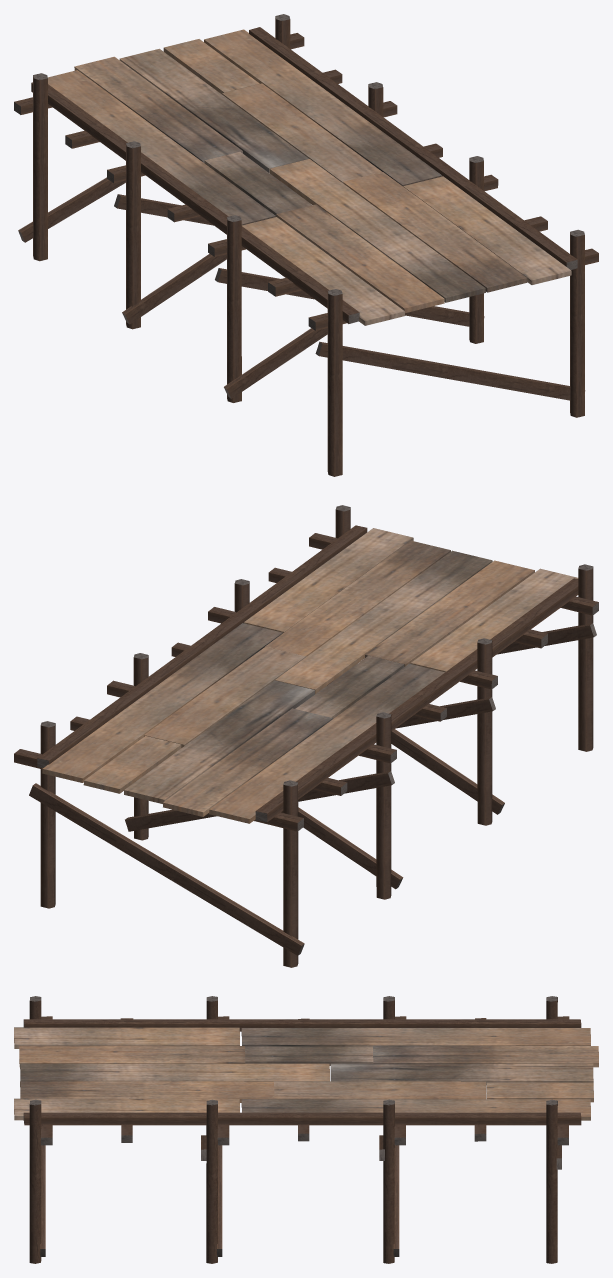
Rendered from jov_Pier1b.fbx.
3 renders of one model, top to bottom at view 1: azimuth 30°, elevation 25°; view 2: azimuth 150°, elevation 25°; view 3: azimuth 270°, elevation 25°, orthographic. The views are drawn at different scales.
Visible parts, largest first — view 1: jov_Pier1b; view 2: jov_Pier1b; view 3: jov_Pier1b.
Boxes of the visible parts, x1,y1,x2,y2 form: jov_Pier1b: [14, 14, 598, 476]; jov_Pier1b: [14, 505, 598, 967]; jov_Pier1b: [14, 996, 598, 1263].
Bounding box in the file's own units: 244 × 149 × 496.
